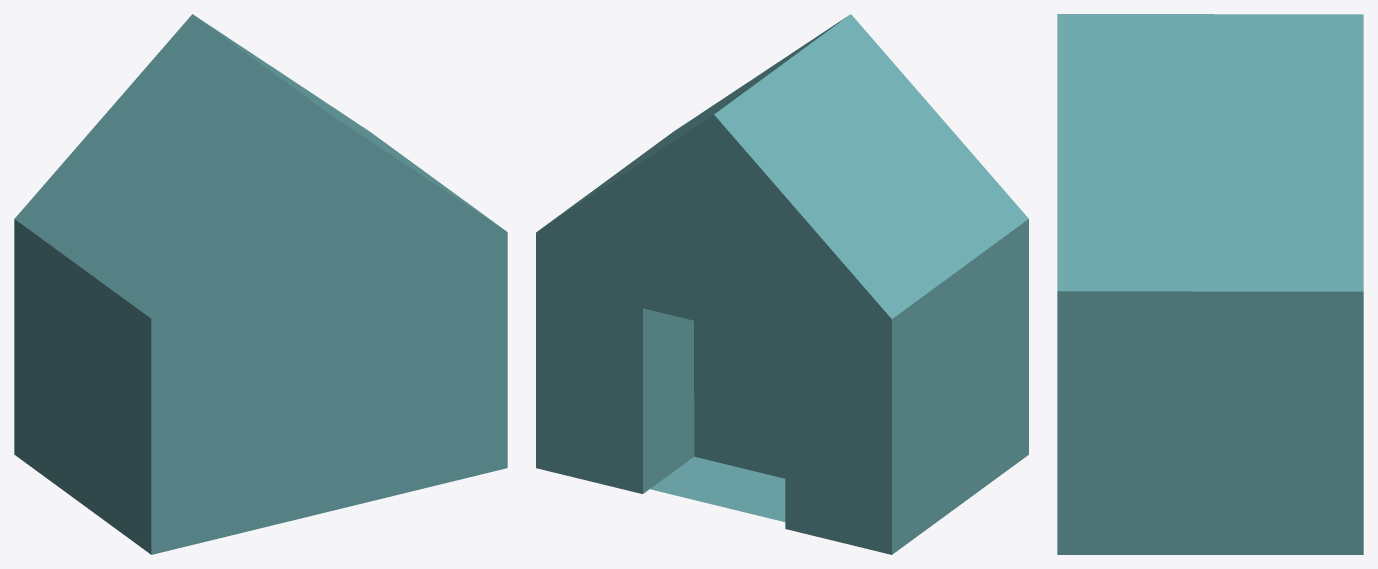
The picture shows the model from 3 angles, left to right: view 1: azimuth 30°, elevation 25°; view 2: azimuth 150°, elevation 25°; view 3: azimuth 270°, elevation 25°; orthographic projection. The views are drawn at different scales.
Visible parts, largest first — view 1: 00_polygon0; view 2: 00_polygon0; view 3: 00_polygon0.
Part boxes in pixels (<box>): 00_polygon0: <box>14,14,507,554</box>; 00_polygon0: <box>536,14,1028,554</box>; 00_polygon0: <box>1057,14,1363,554</box>.
Bounding box in the file's own units: 0.2344 × 0.25 × 0.1562.
